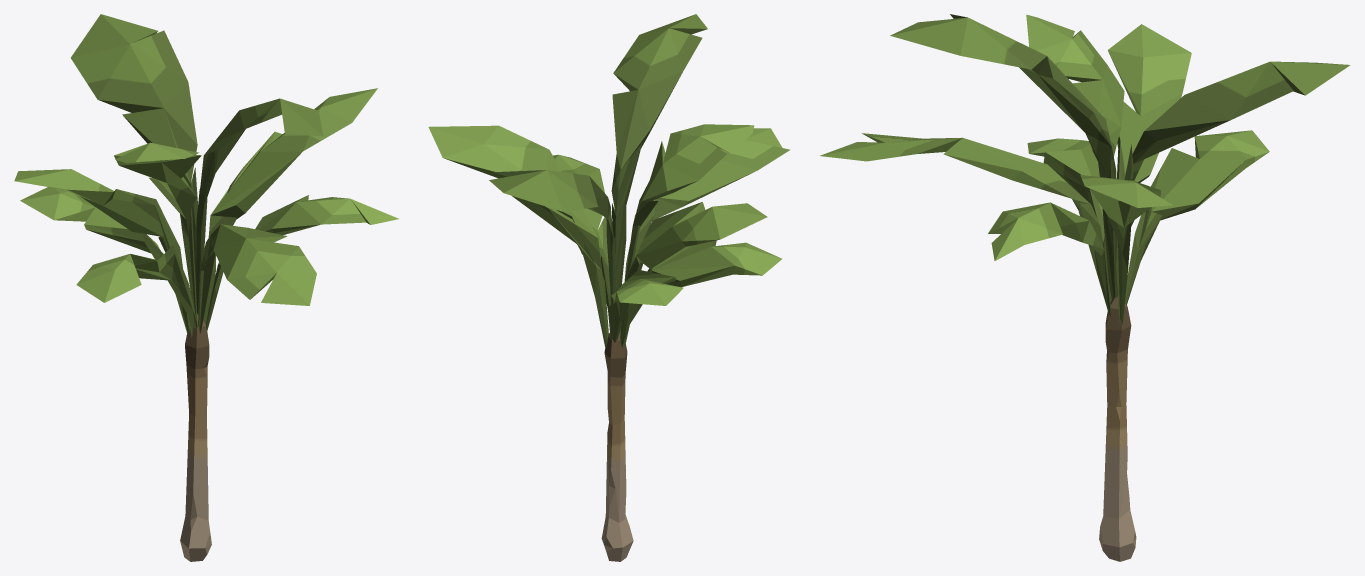
Rendered from SM_Env_Tree_Small_03.glb.
3 renders of one model, left to right at view 1: azimuth 30°, elevation 25°; view 2: azimuth 150°, elevation 25°; view 3: azimuth 270°, elevation 25°, orthographic. The views are drawn at different scales.
Visible parts, largest first — view 1: SM_Env_Tree_Small_03; view 2: SM_Env_Tree_Small_03; view 3: SM_Env_Tree_Small_03.
Part boxes in pixels (<box>): SM_Env_Tree_Small_03: <box>14,14,398,561</box>; SM_Env_Tree_Small_03: <box>428,14,790,561</box>; SM_Env_Tree_Small_03: <box>820,14,1350,561</box>.
Size of the model in its own units: 3.87 by 5.18 by 4.56.
1 material, 1 textured.
